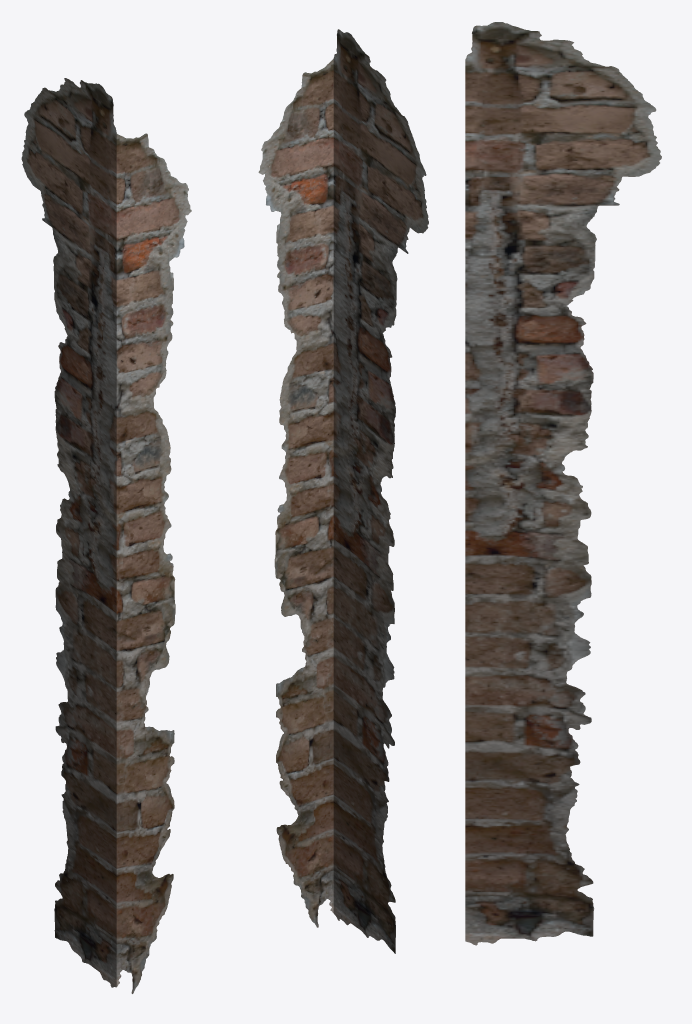
The model's file is Decal_Damage_02.fbx.
3 renders of one model, left to right at view 1: azimuth 30°, elevation 25°; view 2: azimuth 210°, elevation 25°; view 3: azimuth 270°, elevation 25°, orthographic. The views are drawn at different scales.
Parts seen in each view (by area): view 1: Decal_Damage_02; view 2: Decal_Damage_02; view 3: Decal_Damage_02.
Part boxes in pixels (box(x1,y1,x2,y2)): Decal_Damage_02: box(21, 78, 191, 993); Decal_Damage_02: box(258, 29, 428, 953); Decal_Damage_02: box(465, 22, 661, 945).
Bounding box in the file's own units: 19.88 × 37.57 × 186.
1 material, 1 textured.
